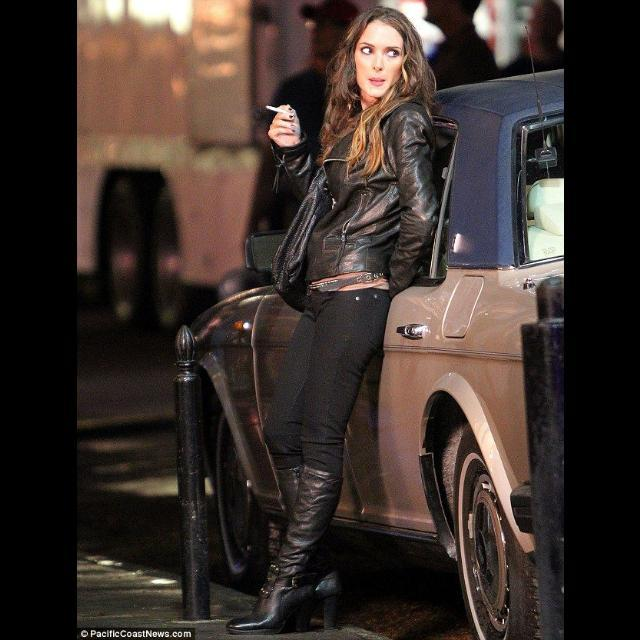rokok: (263, 102, 287, 116)
